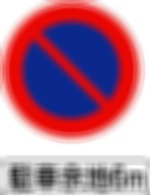Prohibition_sign: (1, 1, 146, 145)
